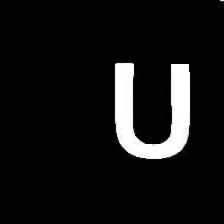LTR_U: (102, 49, 195, 161)
